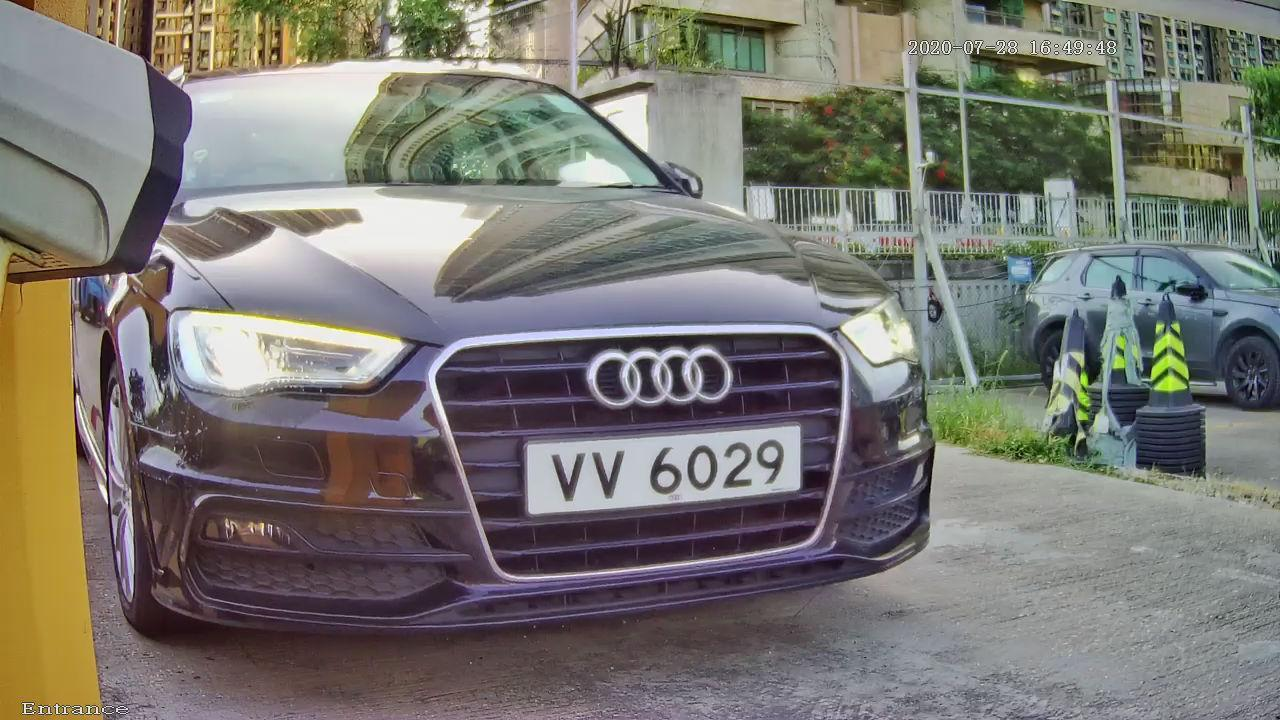privatecar: (6, 20, 1132, 676)
